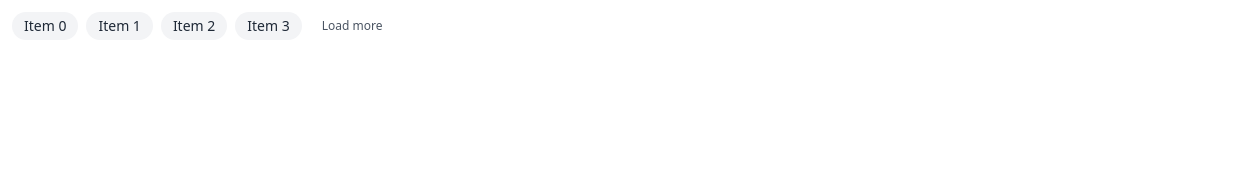
Scenario: FilterPillGroup › reveals +10 per Load more, then collapses with See less
Expected: the text "Item 4" is not shown
Click the button "Load more".
click(352, 26)  # box [310, 12, 395, 40]
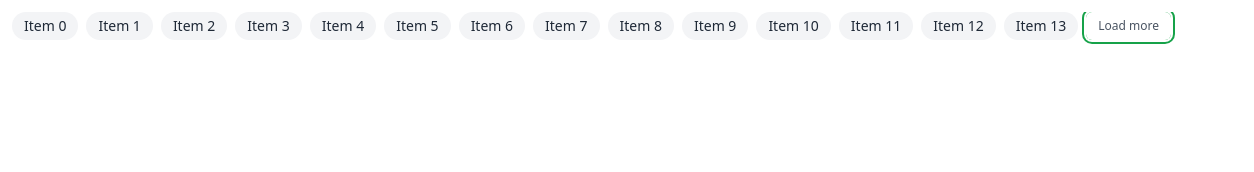
Expected: the text "Item 14" is not shown
Now the button "Item 4" is shown, box [310, 12, 376, 40]
Click the button "Load more".
click(1129, 26)  # box [1086, 12, 1171, 40]
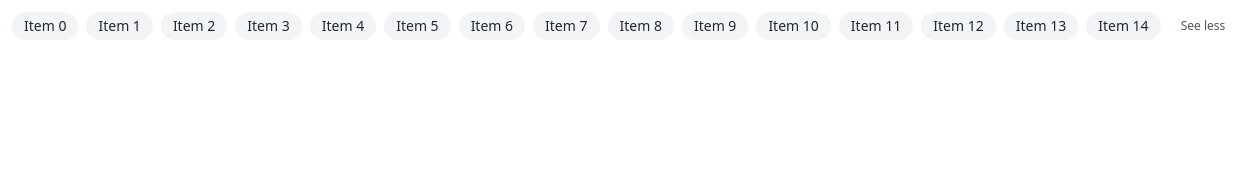
Now the button "Item 14" is shown, box [1086, 12, 1161, 40]
Click the button "See less".
click(1203, 26)  # box [1169, 12, 1237, 40]
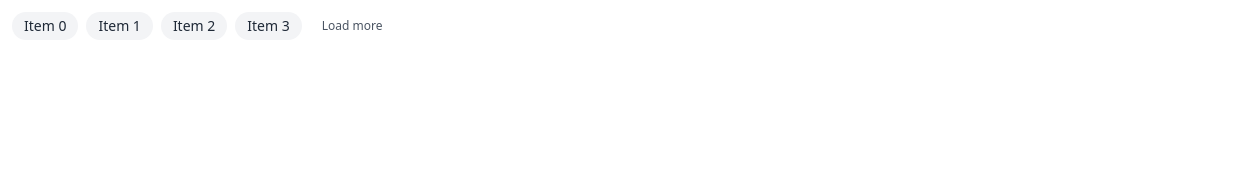
Now the button "Item 4" is gone
